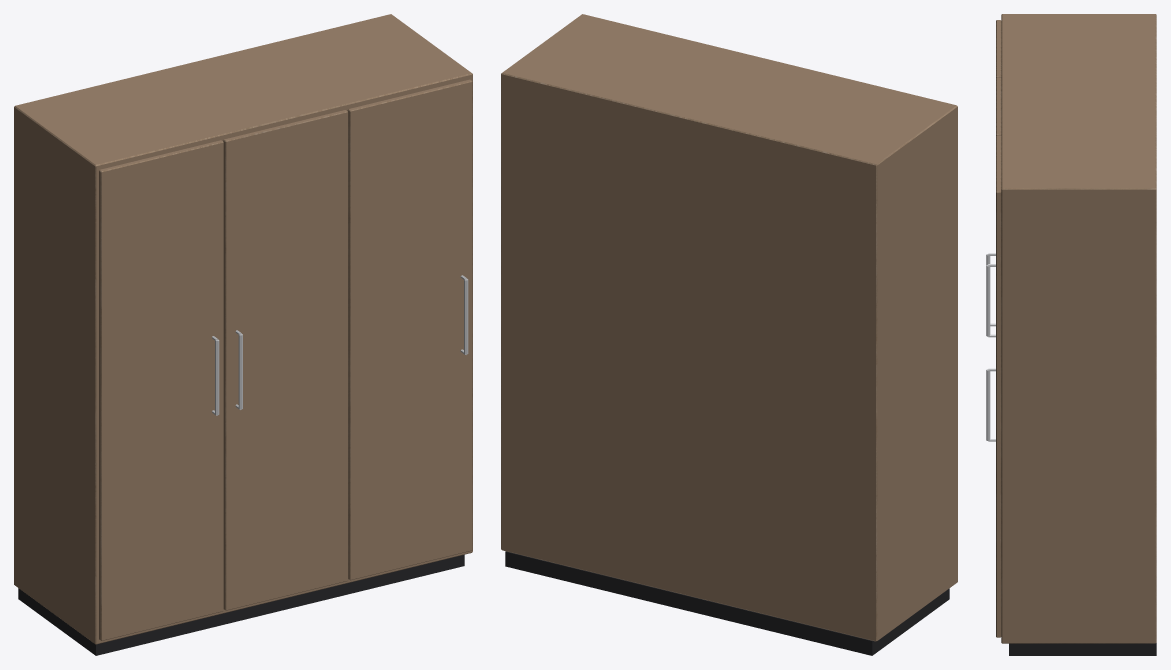
The model's file is wardrobe_starter.glb.
The picture shows the model from 3 angles, left to right: view 1: azimuth 30°, elevation 25°; view 2: azimuth 150°, elevation 25°; view 3: azimuth 270°, elevation 25°; orthographic projection. The views are drawn at different scales.
Parts seen in each view (by area): view 1: wardrobe; view 2: wardrobe; view 3: wardrobe.
Part boxes in pixels (bbox=[...]): wardrobe: bbox=[14, 14, 472, 655]; wardrobe: bbox=[501, 14, 957, 655]; wardrobe: bbox=[986, 14, 1156, 655].
Bounding box in the file's own units: 1.6 × 2 × 0.658.
Materials: 3 (1 with a texture image).
